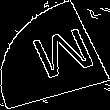M_S: (16, 23, 94, 87)
